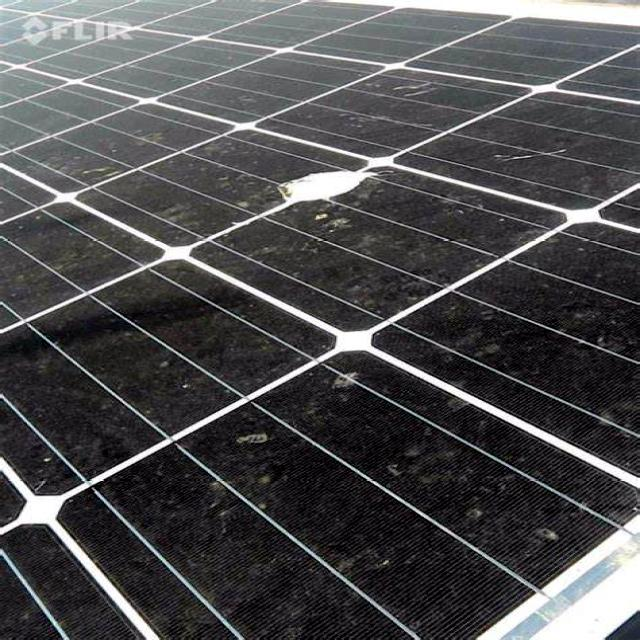bird: (247, 146, 417, 230)
